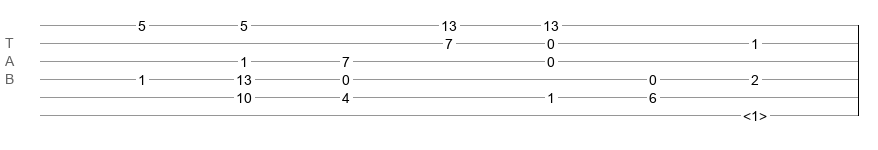0: (342, 72, 350, 82), (547, 36, 555, 46), (547, 54, 555, 64), (649, 72, 657, 82)
1: (138, 72, 146, 82), (240, 54, 248, 64), (547, 90, 555, 100), (751, 36, 759, 46)
10: (236, 90, 252, 100)
13: (236, 72, 252, 82), (441, 18, 457, 28), (543, 18, 559, 28)
2: (751, 72, 759, 82)
4: (342, 90, 350, 100)
5: (138, 18, 146, 28), (240, 18, 248, 28)
6: (649, 90, 657, 100)
7: (342, 54, 350, 64), (445, 36, 453, 46)
harmonic: (743, 108, 767, 118)
